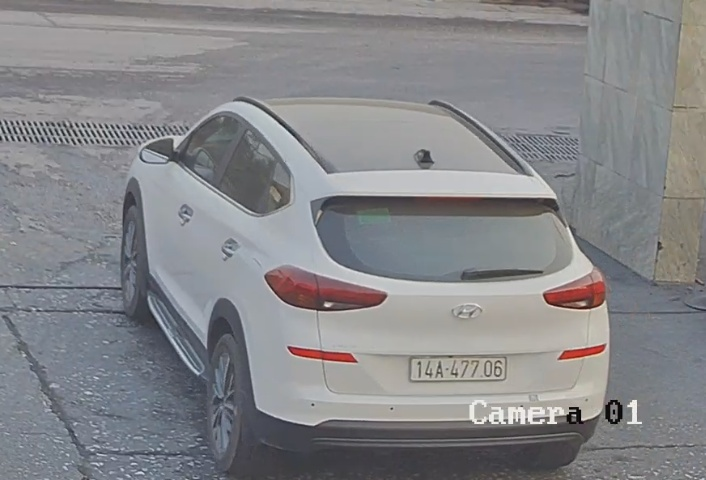vehicle plate: (407, 352, 512, 384)
